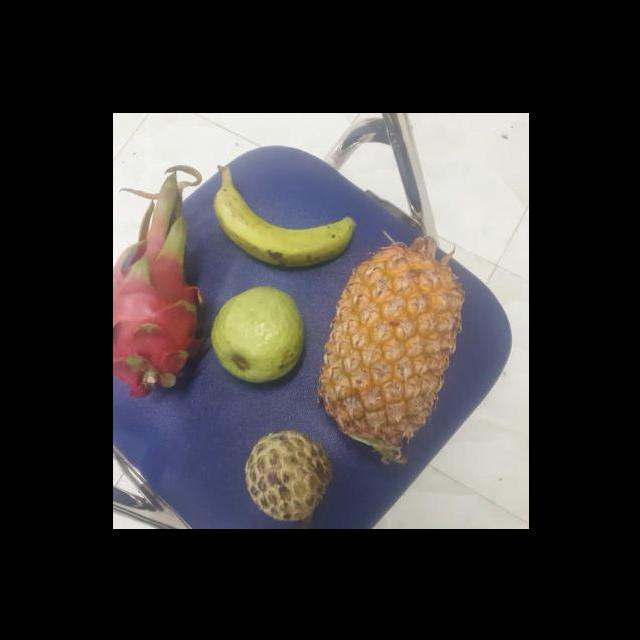Sakya fruit: (244, 426, 336, 520)
banana: (216, 176, 356, 266)
guava: (209, 287, 309, 380)
pineapple: (322, 237, 468, 454)
pitaya: (112, 238, 211, 392)
